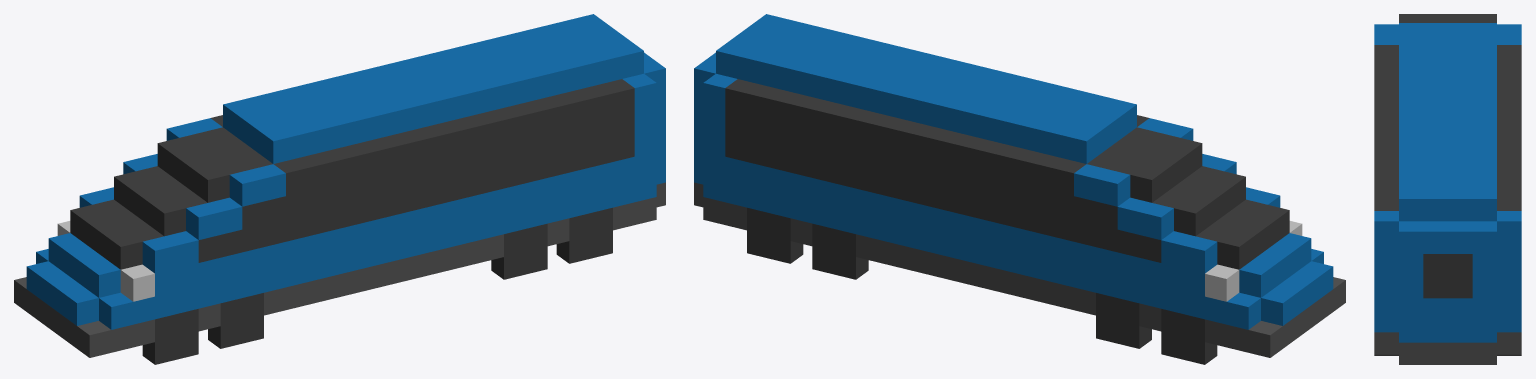
The model's file is train-v1-blue.gltf.
3 renders of one model, left to right at view 1: azimuth 30°, elevation 25°; view 2: azimuth 150°, elevation 25°; view 3: azimuth 270°, elevation 25°, orthographic. The views are drawn at different scales.
Parts seen in each view (by area): view 1: model, wheels; view 2: model, wheels; view 3: model.
Part boxes in pixels (x1,y1,x2,y2): model: (14, 14, 665, 357); wheels: (142, 207, 612, 364); model: (694, 14, 1345, 357); wheels: (747, 207, 1217, 364); model: (1374, 14, 1521, 364).
Bounding box in the file's own units: 2.7 × 0.8 × 0.6.
Materials: 2 (2 with a texture image).
